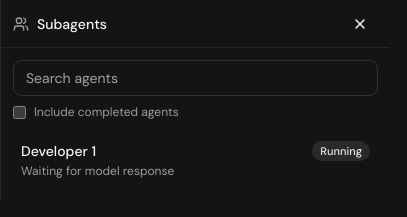
it: Subagent inspection › keeps recovery unavailable to a readonly viewer and surfaces history errors
What coordinates should you click on to do the following:
click the button "Developer 1 Running Waiting for model response"
I would click on:
 (59, 151)
Its box is [9, 132, 382, 188].
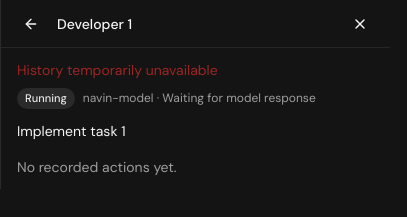
Expected: the message reads "History temporarily unavailable", [17, 61, 218, 79]
